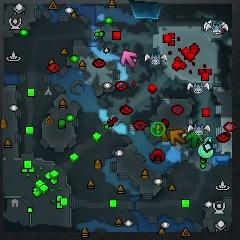Other: (151, 121, 165, 136)
p2: (198, 142, 214, 160)
x1: (120, 50, 137, 69)
x3: (204, 136, 219, 148)
x4: (187, 131, 203, 148)
x5: (169, 129, 186, 146)
